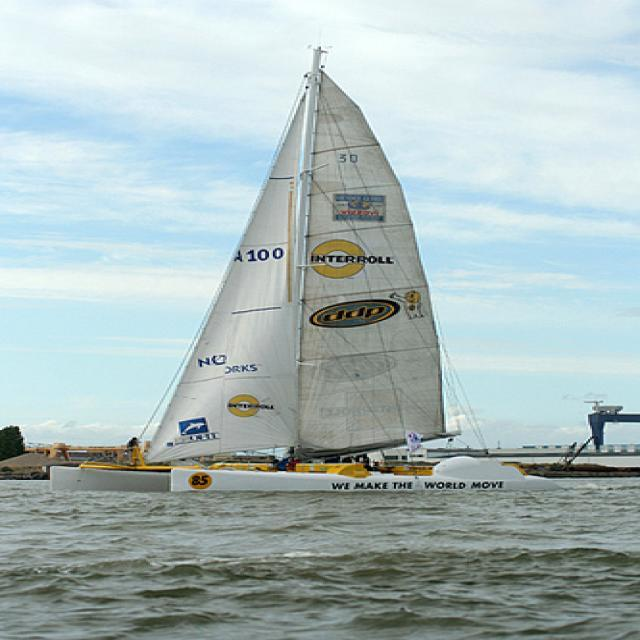Ship: (44, 50, 596, 499)
